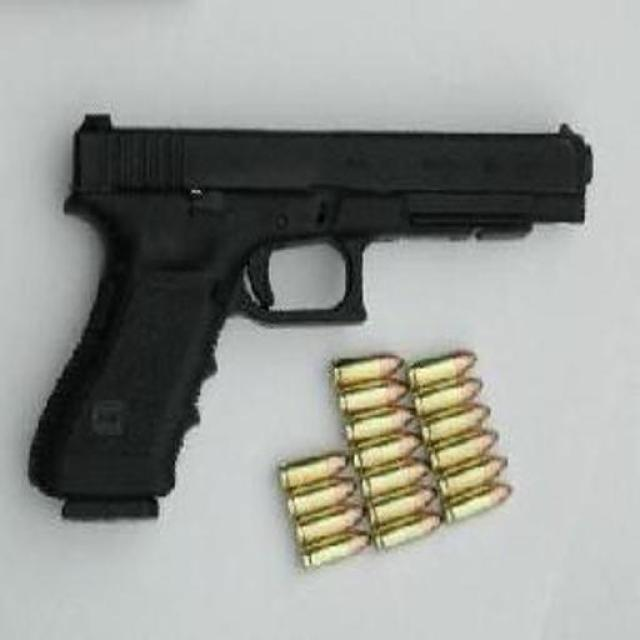pistol: (28, 120, 589, 529)
